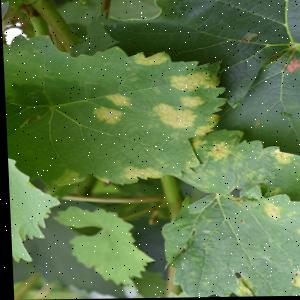Folha: (1, 32, 224, 196), (97, 0, 300, 110), (158, 194, 300, 298), (169, 133, 300, 207), (49, 209, 152, 288), (5, 151, 48, 261)
Fungo: (90, 53, 225, 185), (147, 62, 221, 131), (149, 102, 196, 130), (166, 71, 210, 93), (117, 166, 162, 182), (89, 105, 122, 125), (125, 52, 169, 66), (190, 114, 218, 136), (188, 70, 218, 90), (230, 271, 251, 297), (203, 141, 229, 162), (1, 27, 28, 45), (259, 203, 279, 221), (238, 30, 263, 44), (103, 94, 129, 107), (177, 96, 202, 108), (282, 58, 300, 74)
